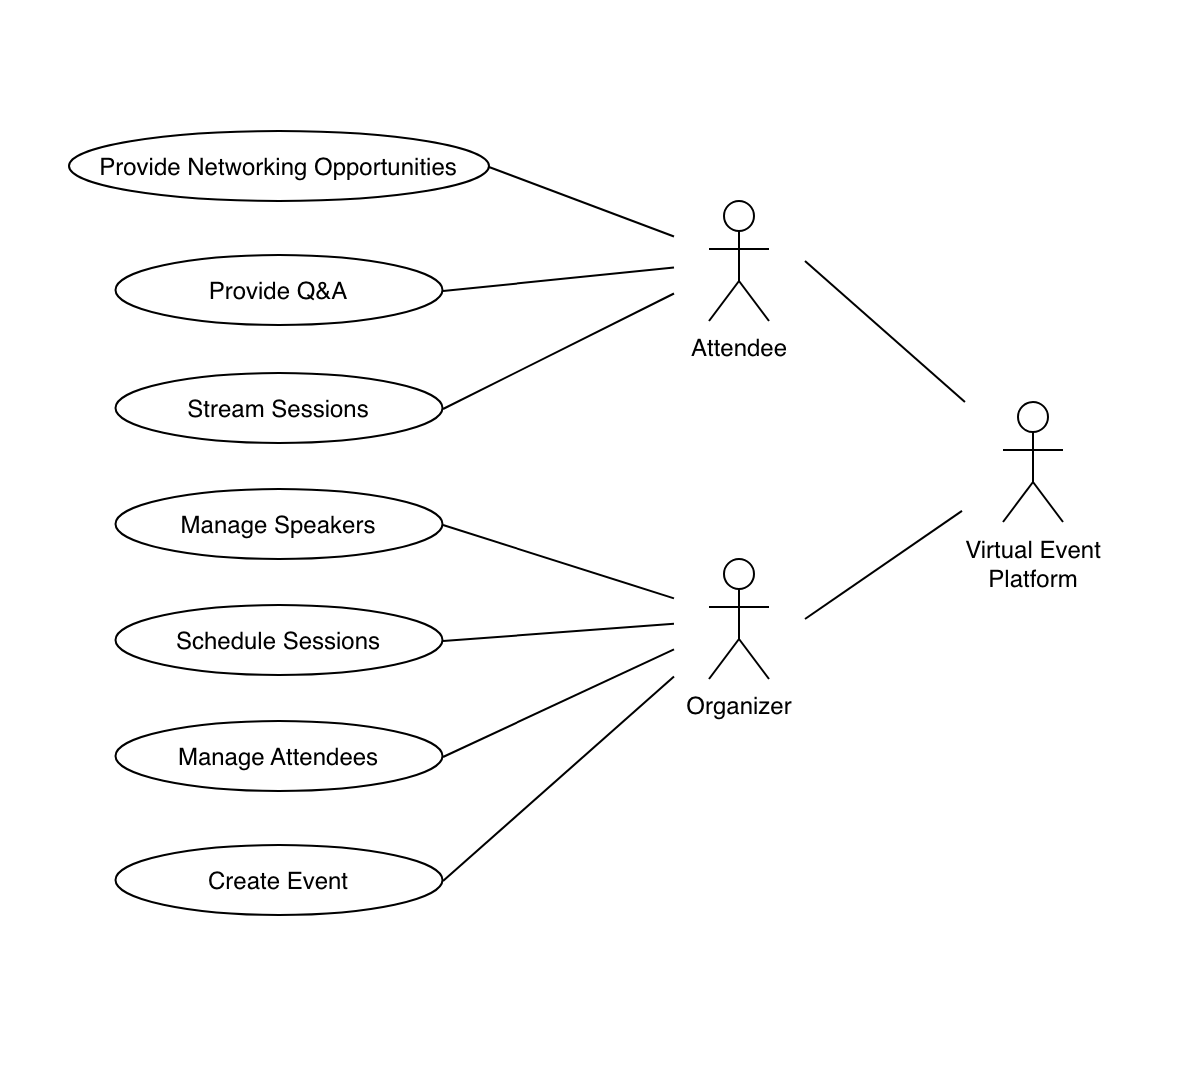actor: (700, 555, 778, 686), (702, 200, 773, 325), (1000, 397, 1064, 523)
association: (442, 676, 678, 881), (441, 288, 681, 410), (440, 646, 675, 760), (797, 253, 967, 404), (443, 521, 675, 600), (805, 508, 970, 619), (487, 162, 670, 238), (442, 259, 682, 301), (445, 615, 682, 649)
text: (100, 152, 459, 185), (953, 531, 1105, 594), (175, 511, 385, 541), (197, 271, 360, 309), (174, 740, 388, 769), (186, 394, 370, 424), (172, 630, 381, 656), (203, 865, 356, 898), (675, 692, 796, 723), (689, 339, 793, 362)
use_case: (70, 129, 491, 203), (115, 844, 441, 918), (114, 253, 443, 327), (116, 603, 444, 676), (116, 370, 443, 441), (114, 720, 441, 791), (115, 490, 445, 557)
